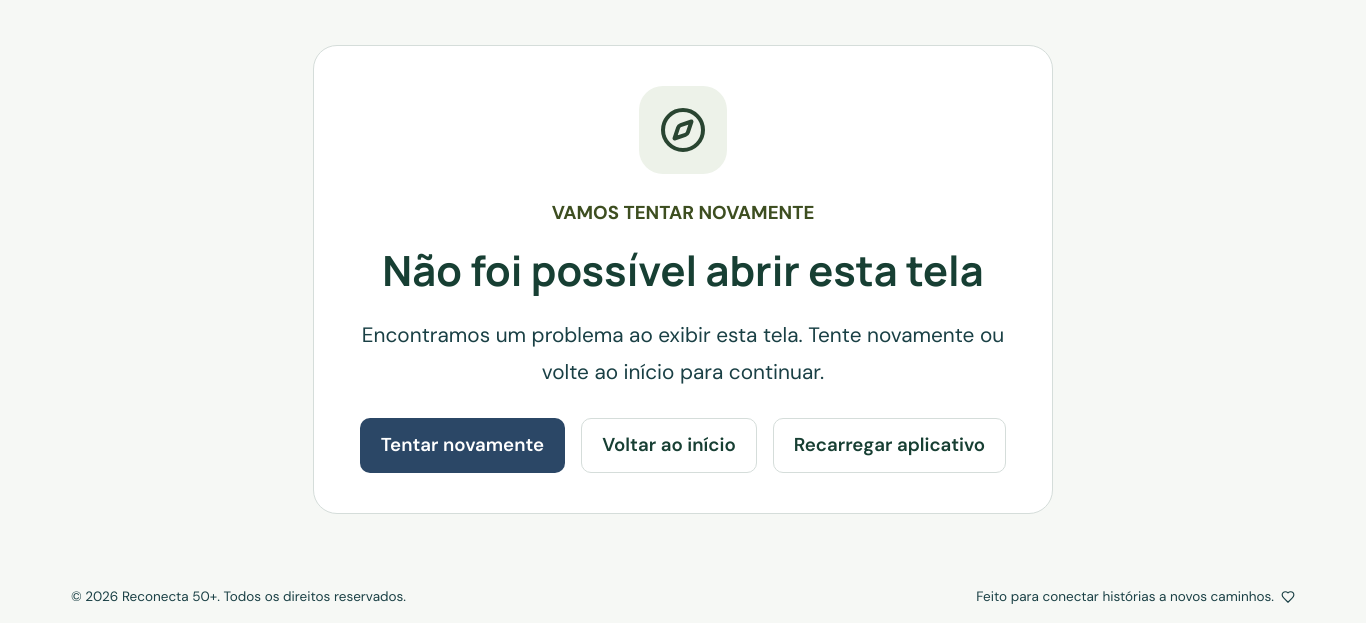
Test: permite sair de uma tela com erro sem ficar preso na recuperação
Click the link "Voltar ao início": (669, 446) [581,418,757,473]
(page scrolled)
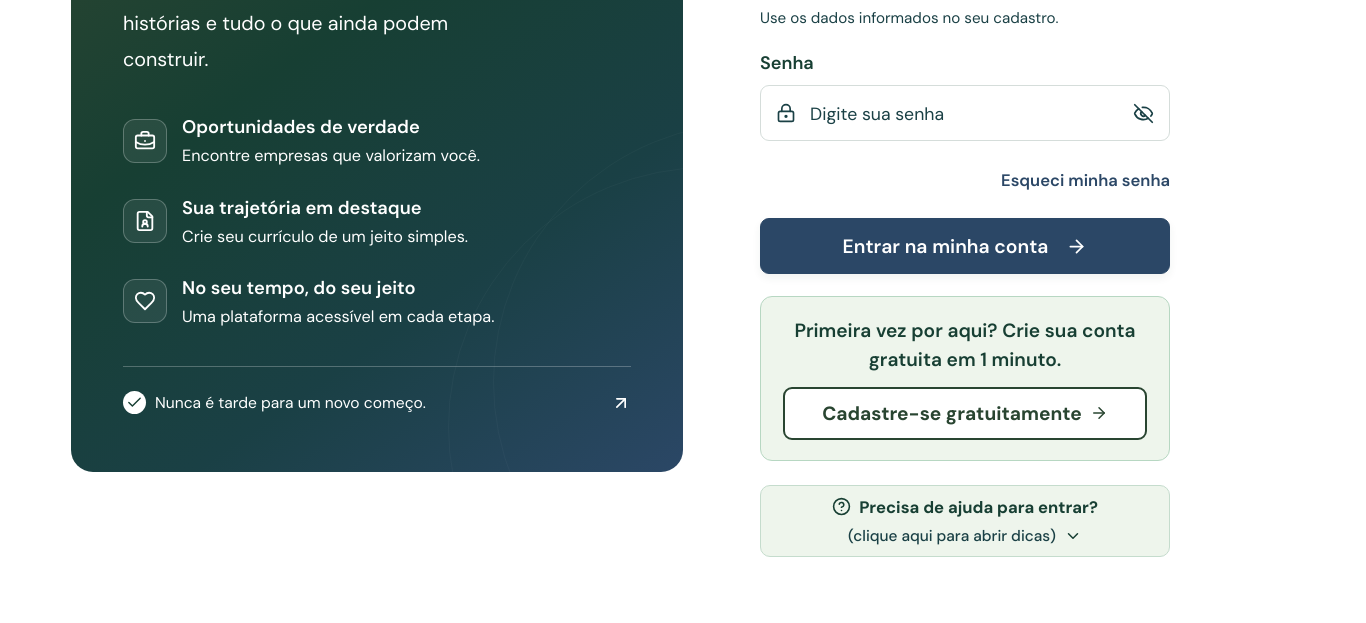
Expected: the button "Entrar na minha conta" is shown, [760,218,1170,274]
Expected: the text "TENTAR NOVAMENTE" is gone
